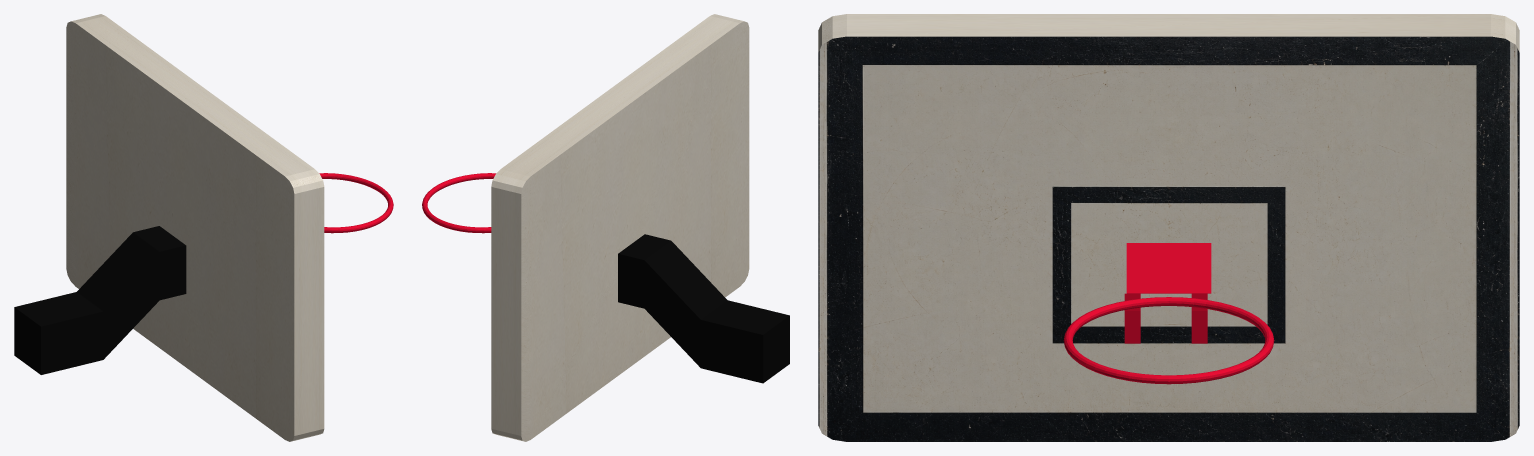
File: ARO.fbx
3 renders of one model, left to right at view 1: azimuth 30°, elevation 25°; view 2: azimuth 150°, elevation 25°; view 3: azimuth 270°, elevation 25°, orthographic. The views are drawn at different scales.
Parts seen in each view (by area): view 1: Cube.002; view 2: Cube.002; view 3: Cube.002.
Part boxes in pixels (x1=…): Cube.002: x1=14, y1=14, x2=393, y2=441; Cube.002: x1=422, y1=14, x2=789, y2=441; Cube.002: x1=818, y1=14, x2=1519, y2=441.
Size of the model in its own units: 96.97 by 69.69 by 109.
